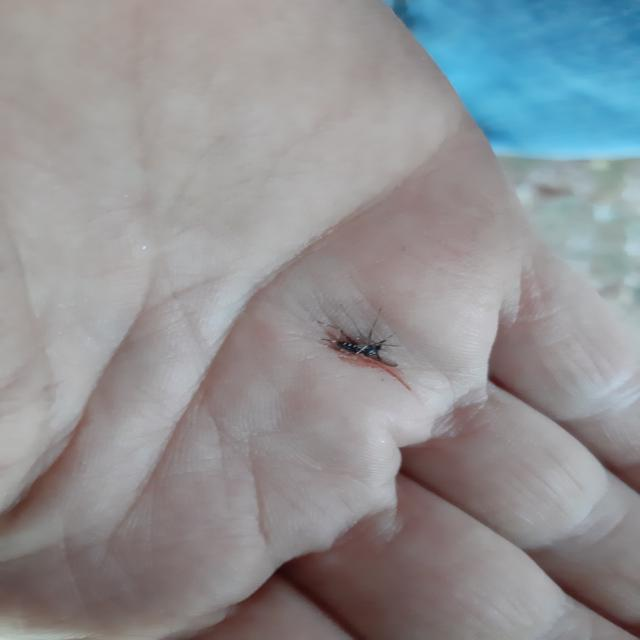albopictus: (303, 300, 407, 369)
